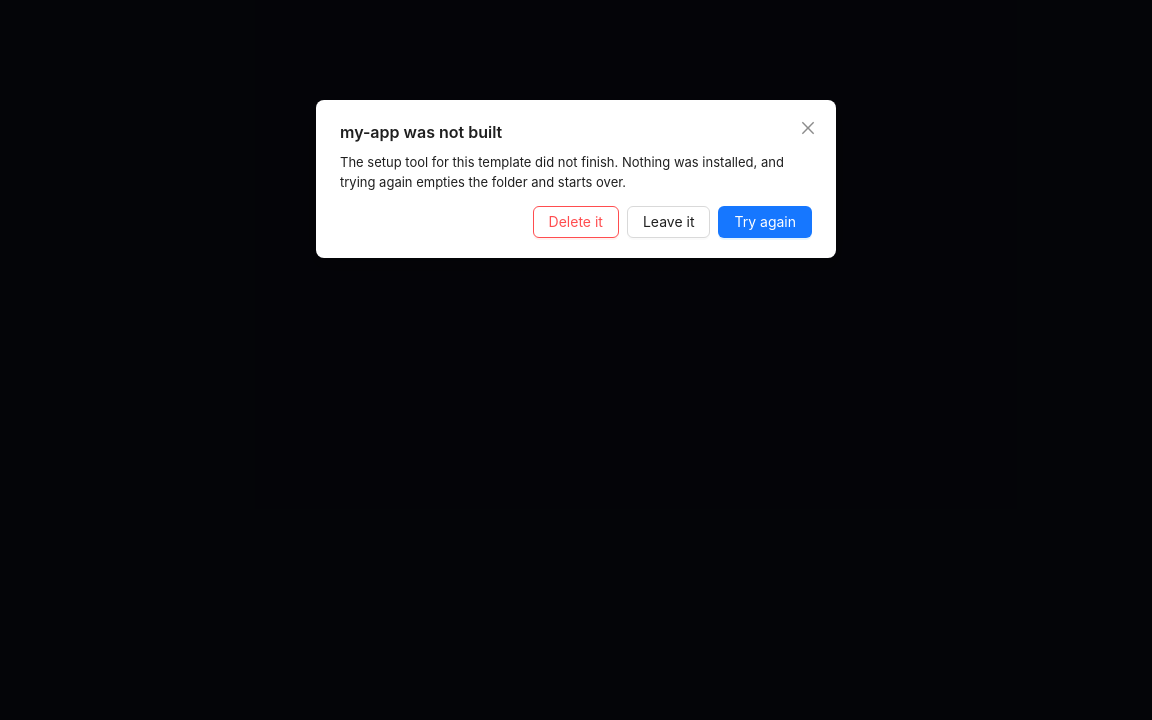
Test case: the ways out › says so when the rebuild could not be started
Check: the text "Nothing was installed" is shown, box [340,154,784,190]
Click the button "Try again". click: [765, 222]
box: [718,206,812,238]
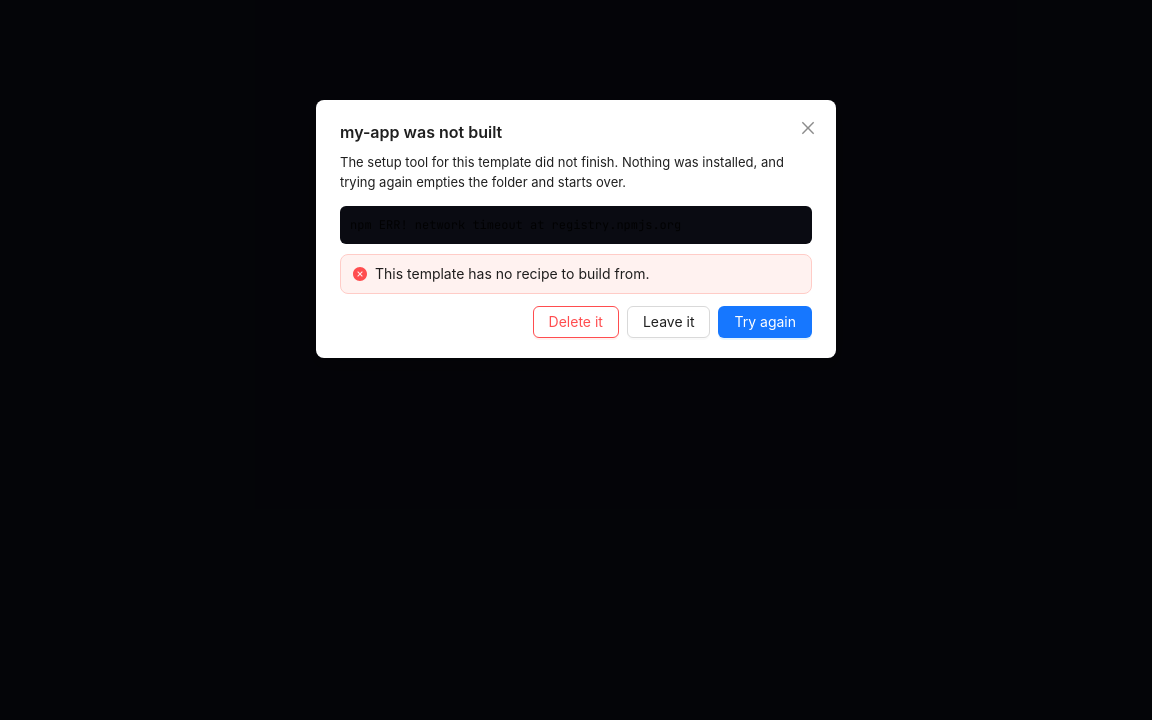
Check: the text "This template has no recipe to build from." is shown, box [375,265,649,282]
